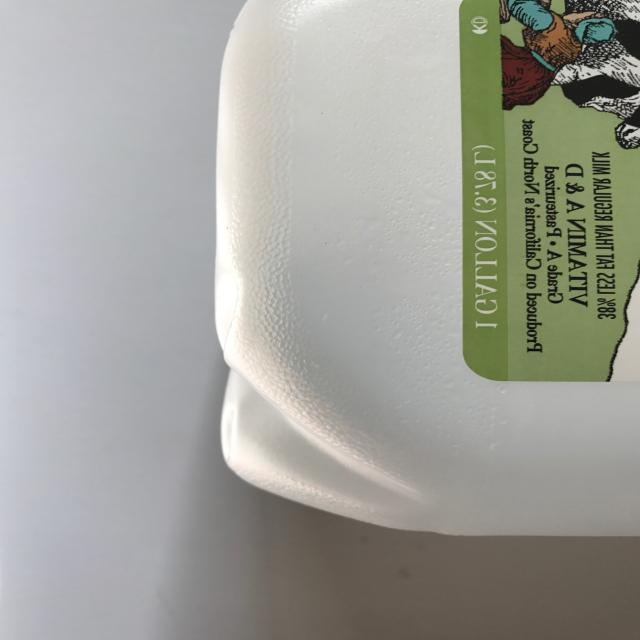plastic: (213, 0, 640, 537)
